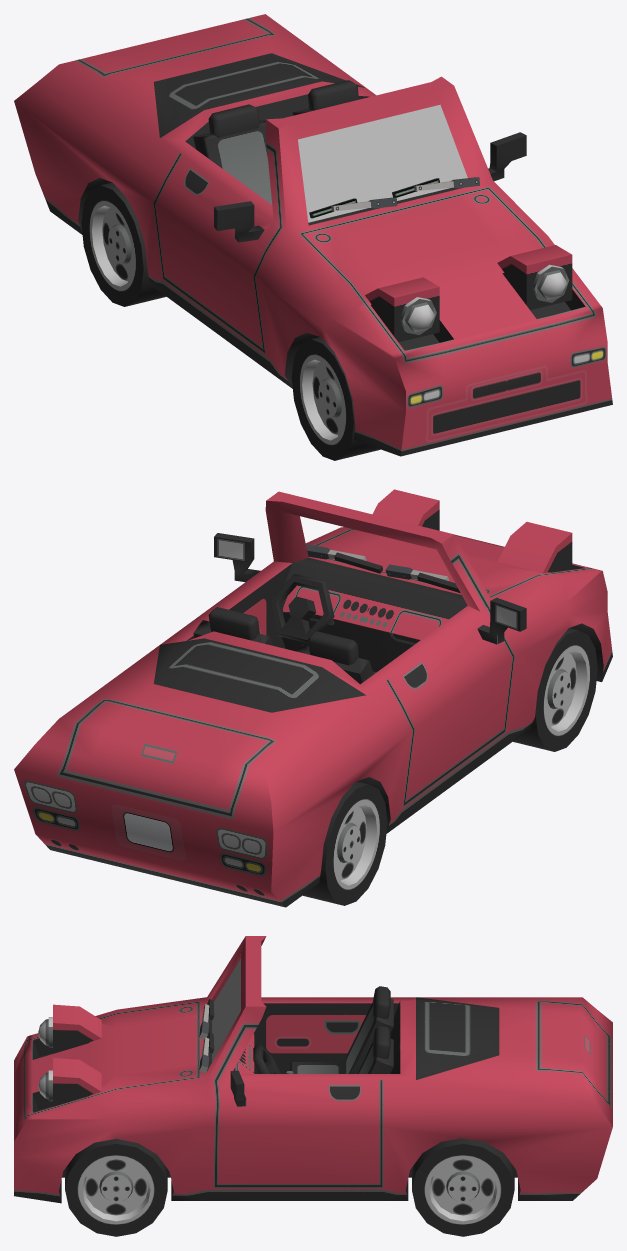
The model's file is car3.glb.
The picture shows the model from 3 angles, top to bottom: view 1: azimuth 30°, elevation 25°; view 2: azimuth 150°, elevation 25°; view 3: azimuth 270°, elevation 25°; orthographic projection. The views are drawn at different scales.
Parts seen in each view (by area): view 1: Convertible1, Glass1, Wheel_a3, Wheel_a2, Spotlight2, Spotlight, Windshield_wipers_c3, Windshield_wipers_c2; view 2: Convertible1, Wheel_a3, Wheel_a2, Spotlight, Helm, Spotlight2, Windshield_wipers_c2, Windshield_wipers_c3; view 3: Convertible1, Wheel_a4, Wheel_a5, Spotlight, Spotlight2, Glass1, Helm.
Part boxes in pixels (left/top/right/bottom): Convertible1: left=14, top=14, right=612, bottom=456; Glass1: left=298, top=104, right=467, bottom=222; Wheel_a3: left=81, top=182, right=166, bottom=306; Wheel_a2: left=291, top=337, right=380, bottom=460; Spotlight2: left=497, top=245, right=572, bottom=310; Spotlight: left=365, top=277, right=439, bottom=342; Windshield_wipers_c3: left=309, top=197, right=397, bottom=218; Windshield_wipers_c2: left=392, top=177, right=479, bottom=197; Convertible1: left=14, top=491, right=612, bottom=907; Wheel_a3: left=303, top=781, right=387, bottom=905; Wheel_a2: left=513, top=628, right=597, bottom=751; Spotlight: left=497, top=522, right=572, bottom=573; Helm: left=270, top=574, right=334, bottom=643; Spotlight2: left=373, top=489, right=439, bottom=530; Windshield_wipers_c2: left=306, top=544, right=382, bottom=573; Windshield_wipers_c3: left=385, top=564, right=460, bottom=592; Convertible1: left=14, top=936, right=612, bottom=1203; Wheel_a4: left=412, top=1138, right=514, bottom=1236; Wheel_a5: left=65, top=1139, right=167, bottom=1236; Spotlight: left=38, top=1004, right=101, bottom=1053; Spotlight2: left=38, top=1058, right=101, bottom=1106; Glass1: left=212, top=958, right=240, bottom=1061; Helm: left=253, top=1044, right=280, bottom=1073.
Size of the model in its own units: 93.44 by 75.71 by 190.
2 materials, 1 textured.
